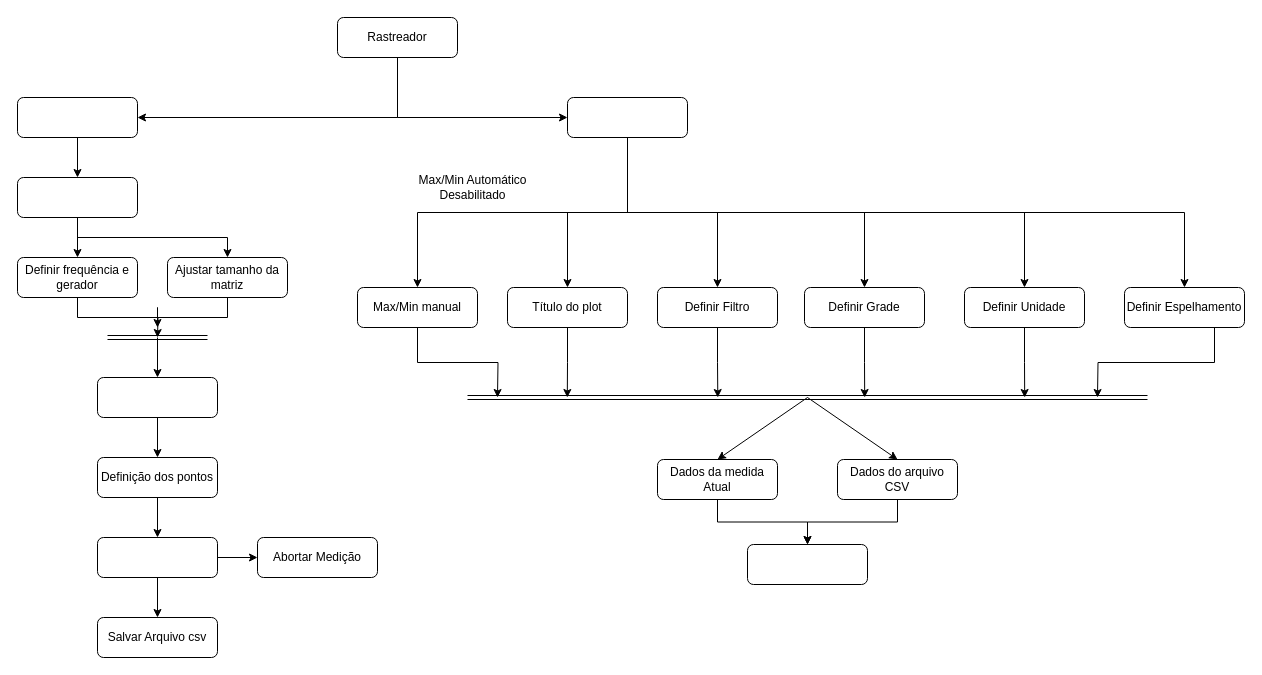
Image size: 1262x675. Some labels were removed from this diagram. Each missing label, with the box of its shape:
Conectar Serial's: (16, 176, 138, 218)
Controle dos movimentos: (96, 376, 218, 418)
Controle&Medição: (16, 96, 138, 138)
Iniciar Medição: (96, 536, 218, 578)
Mapa de Calor: (566, 96, 688, 138)
Salvar último mapa de calor: (746, 544, 868, 584)
